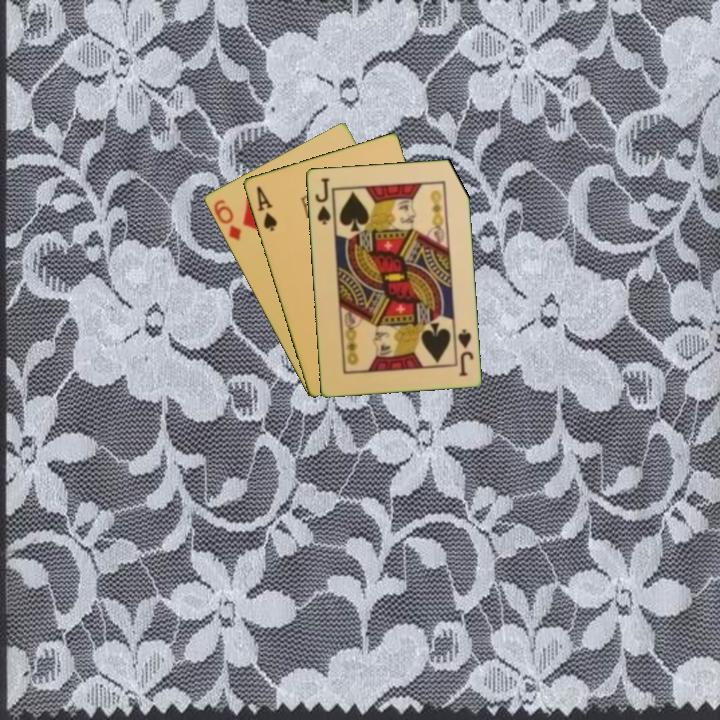6d: (210, 196, 244, 243)
As: (252, 182, 280, 234)
Js: (451, 325, 476, 379), (311, 174, 333, 227)
